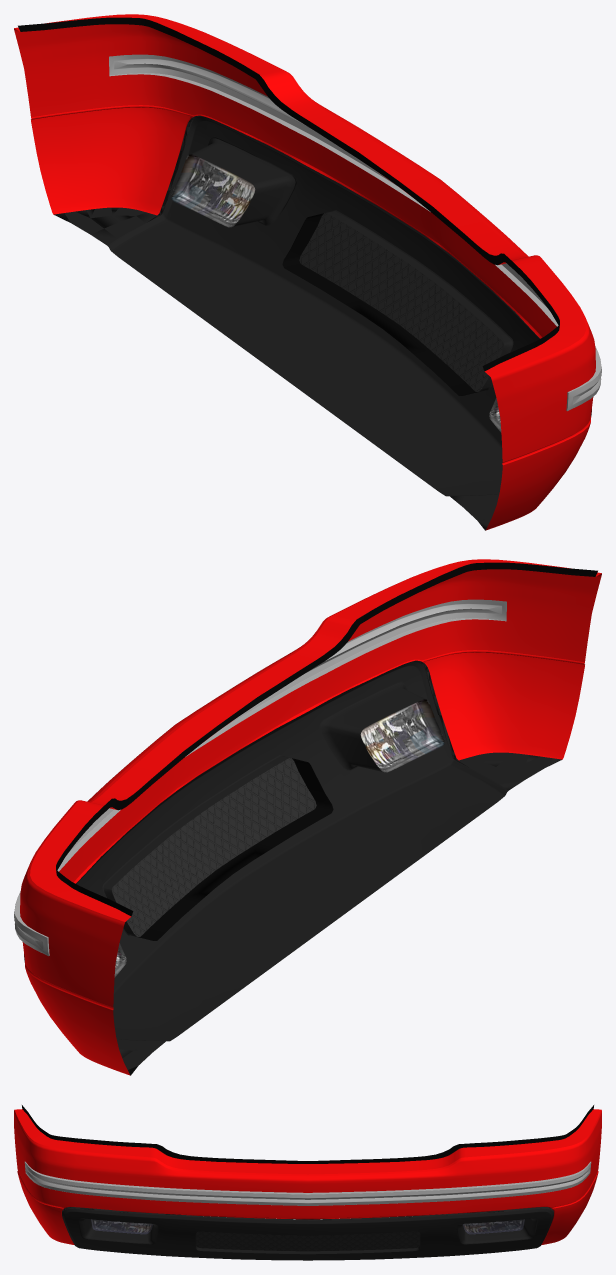
3 views of the same model, one above another, from view 1: azimuth 30°, elevation 25°; view 2: azimuth 150°, elevation 25°; view 3: azimuth 270°, elevation 25° (orthographic). The views are drawn at different scales.
Visible parts, largest first — view 1: U805_4A_021G_C_1_DaS_U805_4A_021G_C, U805_4A_021G_C_U805_4A_021G_C_3_D, U805_4A_021G_C_U805_4A_021G_C_5_D, U805_4A_021G_C_U805_4A_021G_C_2_DaS, U805_4A_021G_C_U805_4A_021G_C_9_D, U805_4A_021G_C_U805_4A_021G_C_3_D_E, U805_4A_021G_C_U805_4A_021G_C_8_D, U805_4A_021G_C_U805_4A_021G_C_6_N, U805_4A_021G_C_1_DaS_U805_4A_021G_C_E; view 2: U805_4A_021G_C_1_DaS_U805_4A_021G_C, U805_4A_021G_C_U805_4A_021G_C_3_D, U805_4A_021G_C_U805_4A_021G_C_5_D, U805_4A_021G_C_U805_4A_021G_C_2_DaS, U805_4A_021G_C_U805_4A_021G_C_9_D, U805_4A_021G_C_U805_4A_021G_C_3_D_E, U805_4A_021G_C_U805_4A_021G_C_8_D, U805_4A_021G_C_U805_4A_021G_C_7_N, U805_4A_021G_C_1_DaS_U805_4A_021G_C_E; view 3: U805_4A_021G_C_1_DaS_U805_4A_021G_C, U805_4A_021G_C_U805_4A_021G_C_3_D, U805_4A_021G_C_U805_4A_021G_C_2_DaS, U805_4A_021G_C_U805_4A_021G_C_5_D, U805_4A_021G_C_U805_4A_021G_C_9_D, U805_4A_021G_C_U805_4A_021G_C_3_D_E, U805_4A_021G_C_1_DaS_U805_4A_021G_C_E, U805_4A_021G_C_U805_4A_021G_C_4_DTaSI, U805_4A_021G_C_U805_4A_021G_C_5_DTaSI, U805_4A_021G_C_U805_4A_021G_C_6_N, U805_4A_021G_C_U805_4A_021G_C_7_N.
Part boxes in pixels (left/top/right/bottom): U805_4A_021G_C_1_DaS_U805_4A_021G_C: left=14, top=14, right=595, bottom=530; U805_4A_021G_C_U805_4A_021G_C_3_D: left=107, top=116, right=591, bottom=496; U805_4A_021G_C_U805_4A_021G_C_5_D: left=299, top=213, right=503, bottom=391; U805_4A_021G_C_U805_4A_021G_C_2_DaS: left=109, top=54, right=601, bottom=411; U805_4A_021G_C_U805_4A_021G_C_9_D: left=18, top=17, right=559, bottom=371; U805_4A_021G_C_U805_4A_021G_C_3_D_E: left=54, top=115, right=591, bottom=530; U805_4A_021G_C_U805_4A_021G_C_8_D: left=282, top=213, right=477, bottom=395; U805_4A_021G_C_U805_4A_021G_C_6_N: left=171, top=154, right=255, bottom=227; U805_4A_021G_C_1_DaS_U805_4A_021G_C_E: left=31, top=105, right=591, bottom=465; U805_4A_021G_C_1_DaS_U805_4A_021G_C: left=20, top=559, right=601, bottom=1075; U805_4A_021G_C_U805_4A_021G_C_3_D: left=24, top=661, right=508, bottom=1041; U805_4A_021G_C_U805_4A_021G_C_5_D: left=112, top=758, right=316, bottom=936; U805_4A_021G_C_U805_4A_021G_C_2_DaS: left=14, top=599, right=506, bottom=956; U805_4A_021G_C_U805_4A_021G_C_9_D: left=56, top=562, right=597, bottom=916; U805_4A_021G_C_U805_4A_021G_C_3_D_E: left=24, top=660, right=561, bottom=1075; U805_4A_021G_C_U805_4A_021G_C_8_D: left=138, top=758, right=333, bottom=940; U805_4A_021G_C_U805_4A_021G_C_7_N: left=360, top=699, right=444, bottom=772; U805_4A_021G_C_1_DaS_U805_4A_021G_C_E: left=24, top=650, right=584, bottom=1010; U805_4A_021G_C_1_DaS_U805_4A_021G_C: left=14, top=1109, right=601, bottom=1244; U805_4A_021G_C_U805_4A_021G_C_3_D: left=62, top=1208, right=553, bottom=1260; U805_4A_021G_C_U805_4A_021G_C_2_DaS: left=24, top=1161, right=591, bottom=1205; U805_4A_021G_C_U805_4A_021G_C_5_D: left=196, top=1231, right=419, bottom=1251; U805_4A_021G_C_U805_4A_021G_C_9_D: left=22, top=1105, right=593, bottom=1163; U805_4A_021G_C_U805_4A_021G_C_3_D_E: left=62, top=1207, right=553, bottom=1254; U805_4A_021G_C_1_DaS_U805_4A_021G_C_E: left=17, top=1171, right=598, bottom=1244; U805_4A_021G_C_U805_4A_021G_C_4_DTaSI: left=463, top=1219, right=524, bottom=1234; U805_4A_021G_C_U805_4A_021G_C_5_DTaSI: left=91, top=1219, right=152, bottom=1234; U805_4A_021G_C_U805_4A_021G_C_6_N: left=463, top=1219, right=524, bottom=1232; U805_4A_021G_C_U805_4A_021G_C_7_N: left=91, top=1219, right=152, bottom=1232.
Bounding box in the file's own units: 42 × 37.75 × 175.
